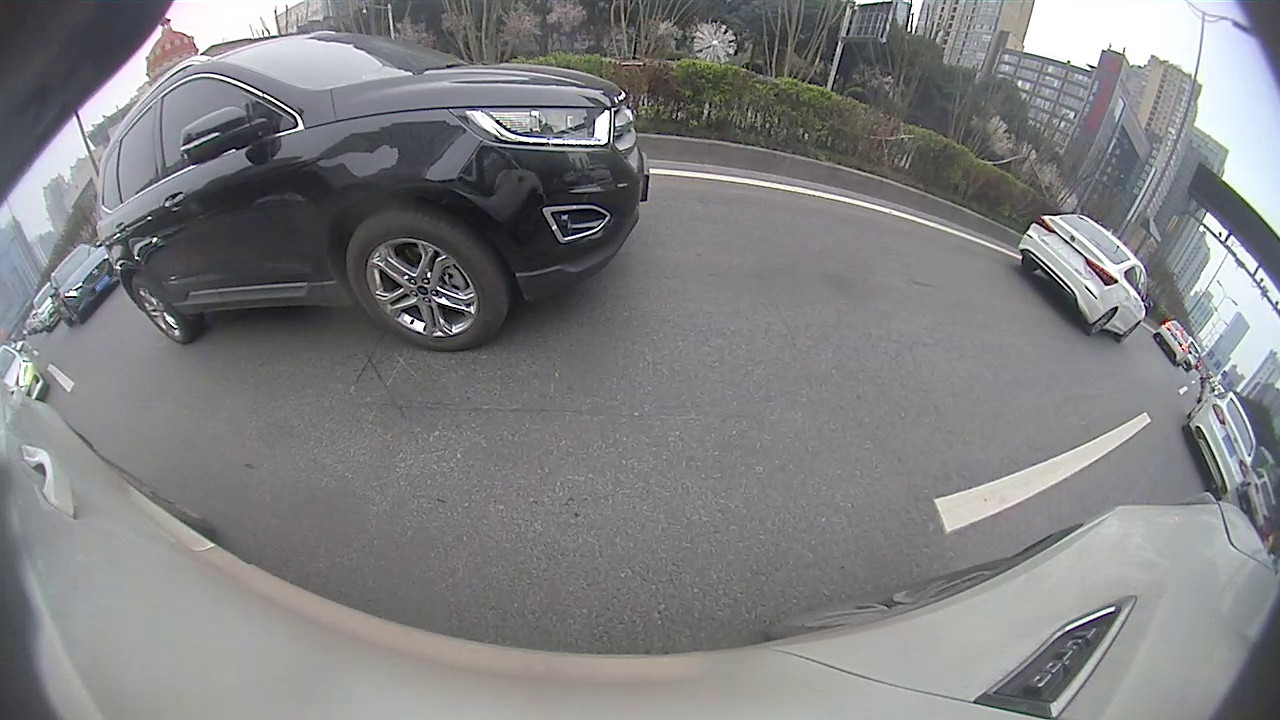car: (95, 28, 652, 354), (1018, 213, 1156, 343), (1183, 387, 1257, 500), (47, 243, 116, 329), (1153, 321, 1193, 368)
front: (347, 212, 507, 349)
rear: (132, 275, 187, 345), (1090, 308, 1117, 334)
